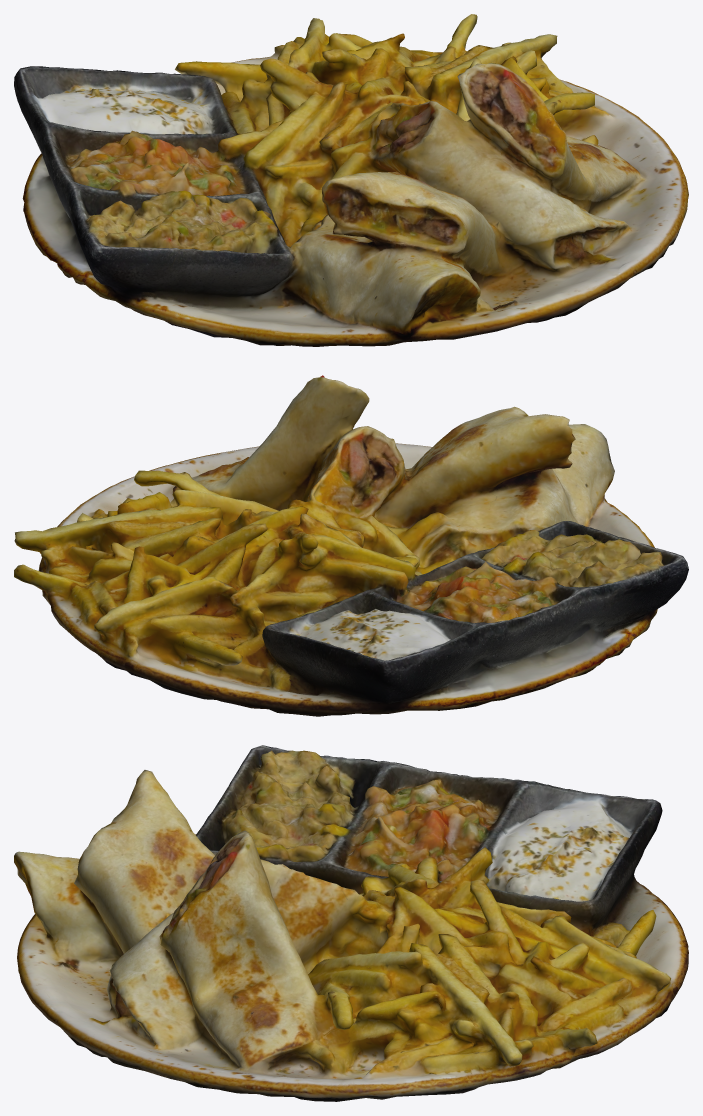
File: chickenFajita_1752057967757.glb
3 renders of one model, top to bottom at view 1: azimuth 30°, elevation 25°; view 2: azimuth 150°, elevation 25°; view 3: azimuth 270°, elevation 25°, orthographic. The views are drawn at different scales.
Visible parts, largest first — view 1: 3DModel_Custom; view 2: 3DModel_Custom; view 3: 3DModel_Custom.
Boxes of the visible parts, box(x1,y1,x2,y2) form: 3DModel_Custom: box(14, 14, 688, 346); 3DModel_Custom: box(14, 375, 688, 716); 3DModel_Custom: box(14, 745, 688, 1101).
Size of the model in its own units: 0.2852 by 0.0809 by 0.2758.
Materials: 1 (1 with a texture image).
